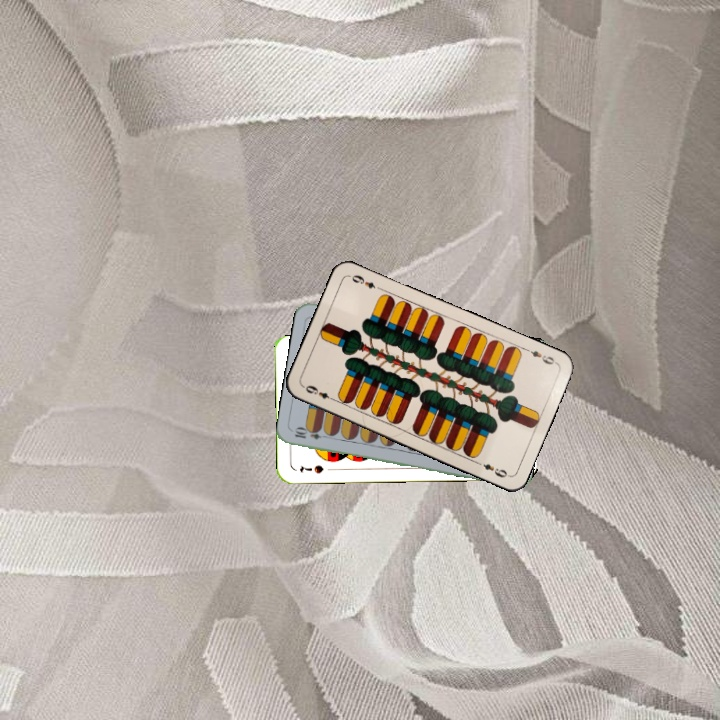E10: (291, 425, 331, 442)
E9: (300, 381, 338, 404), (521, 344, 559, 367)
S7: (295, 461, 326, 476)
